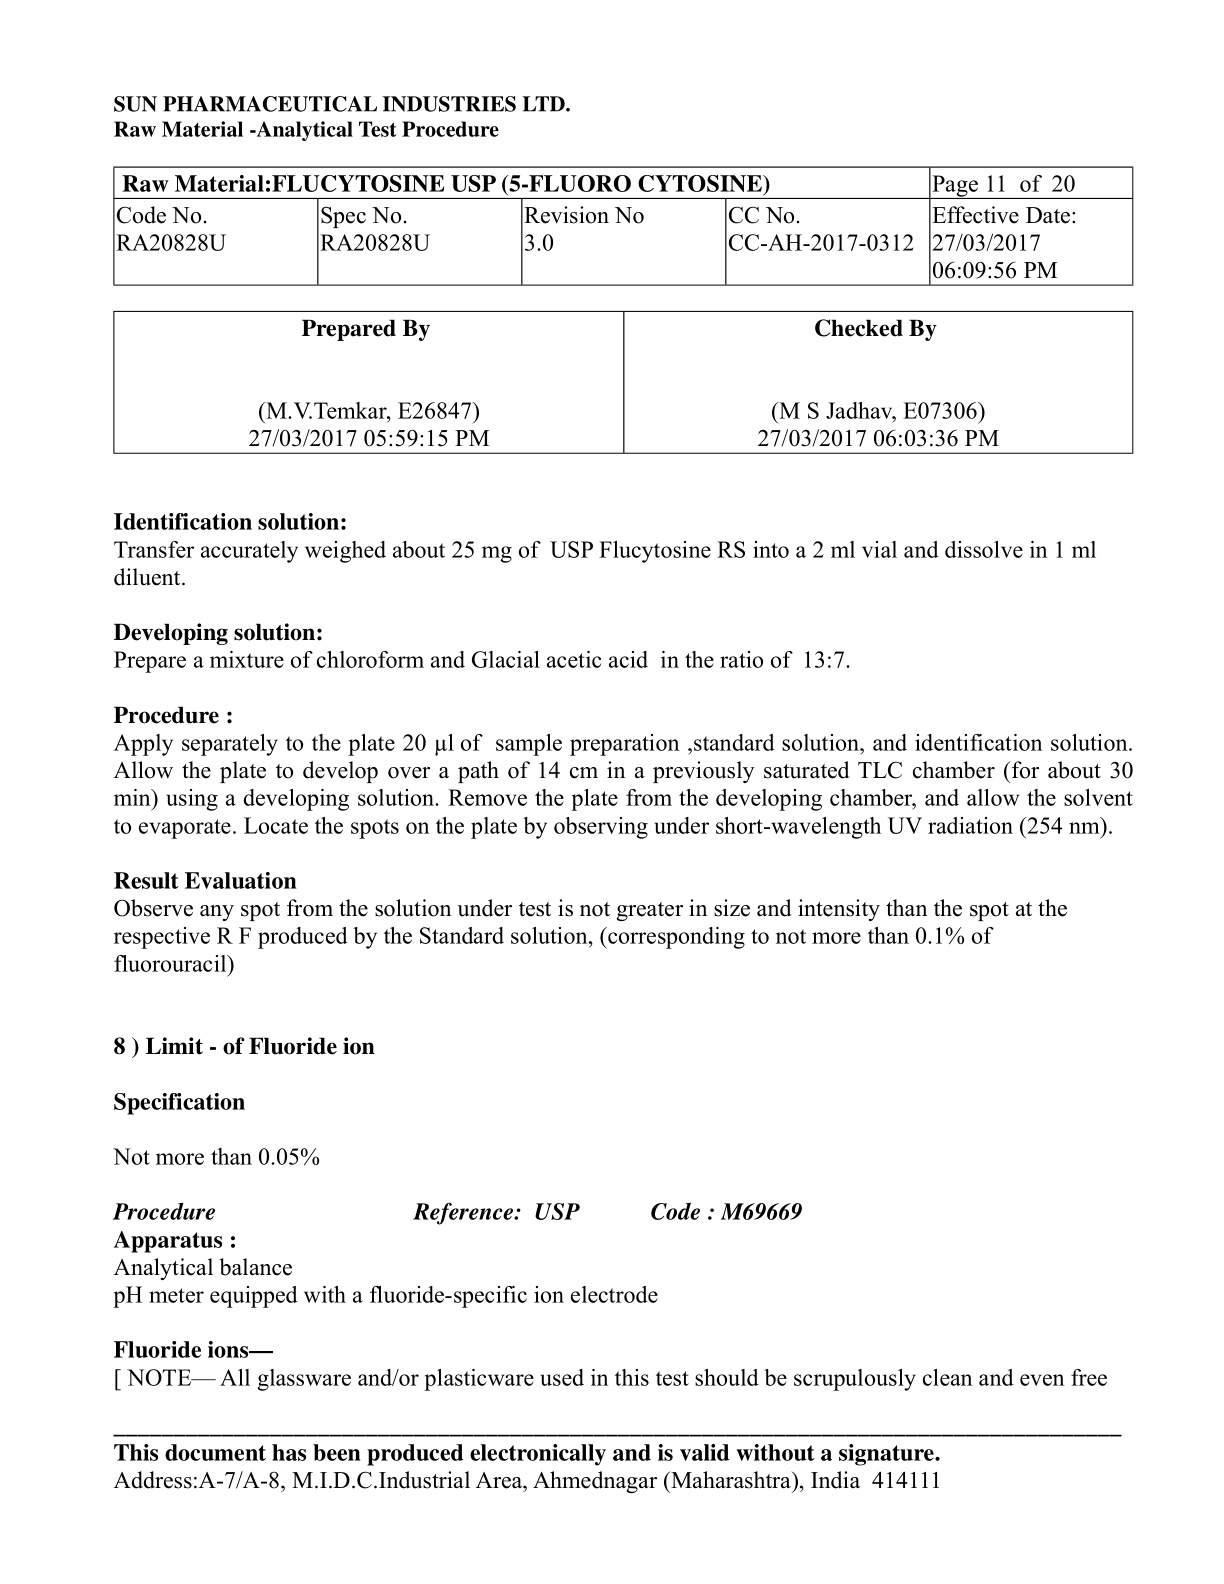full_lined: (112, 309, 1135, 456)
merged_cells: (111, 165, 1135, 288)
